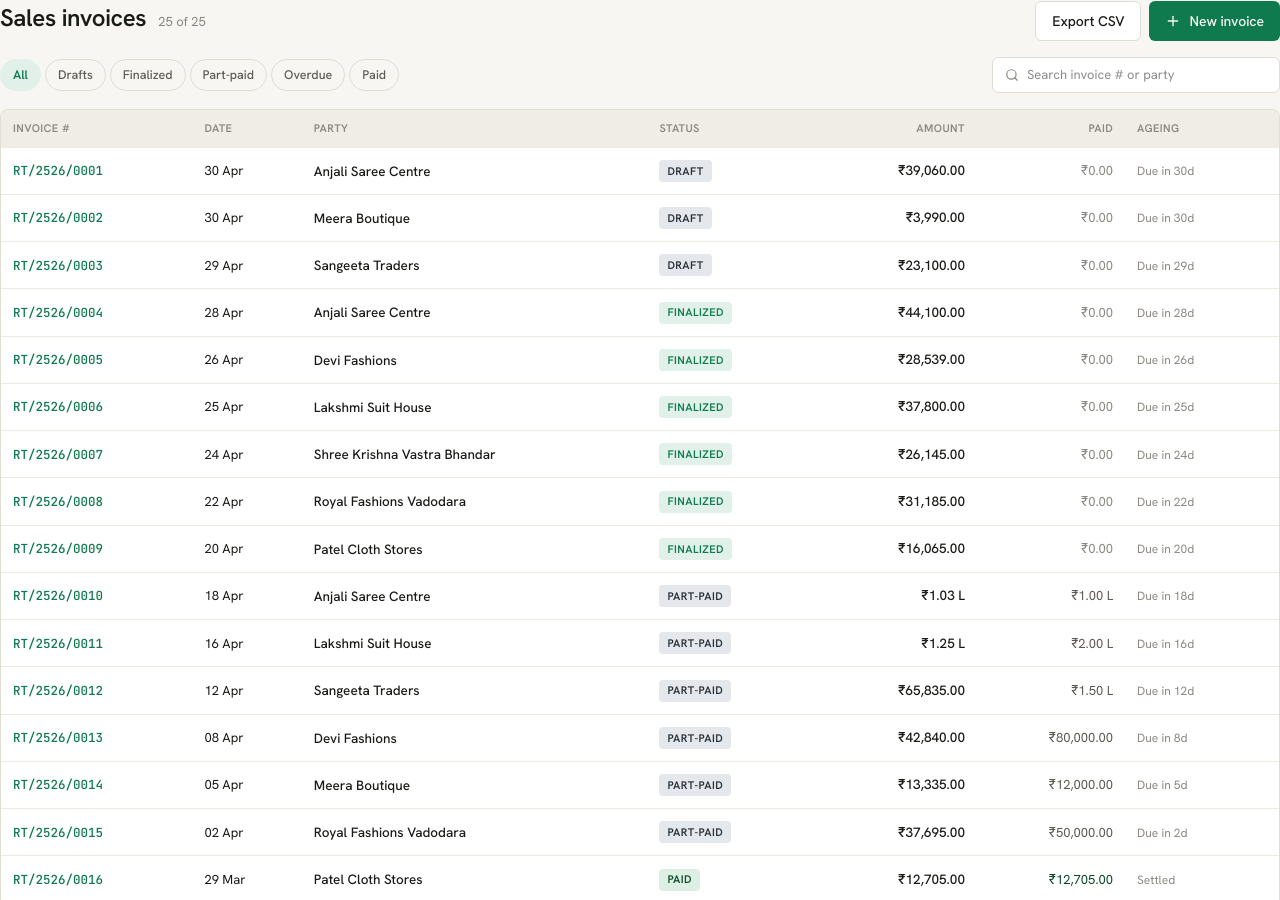
Test: InvoiceList › filters rows when the Drafts pill is selected
Expected: the link "RT/2526/0001" is shown, [13,162,103,179]
Click the button "Drafts" at (75, 75), box [45,59,106,91]
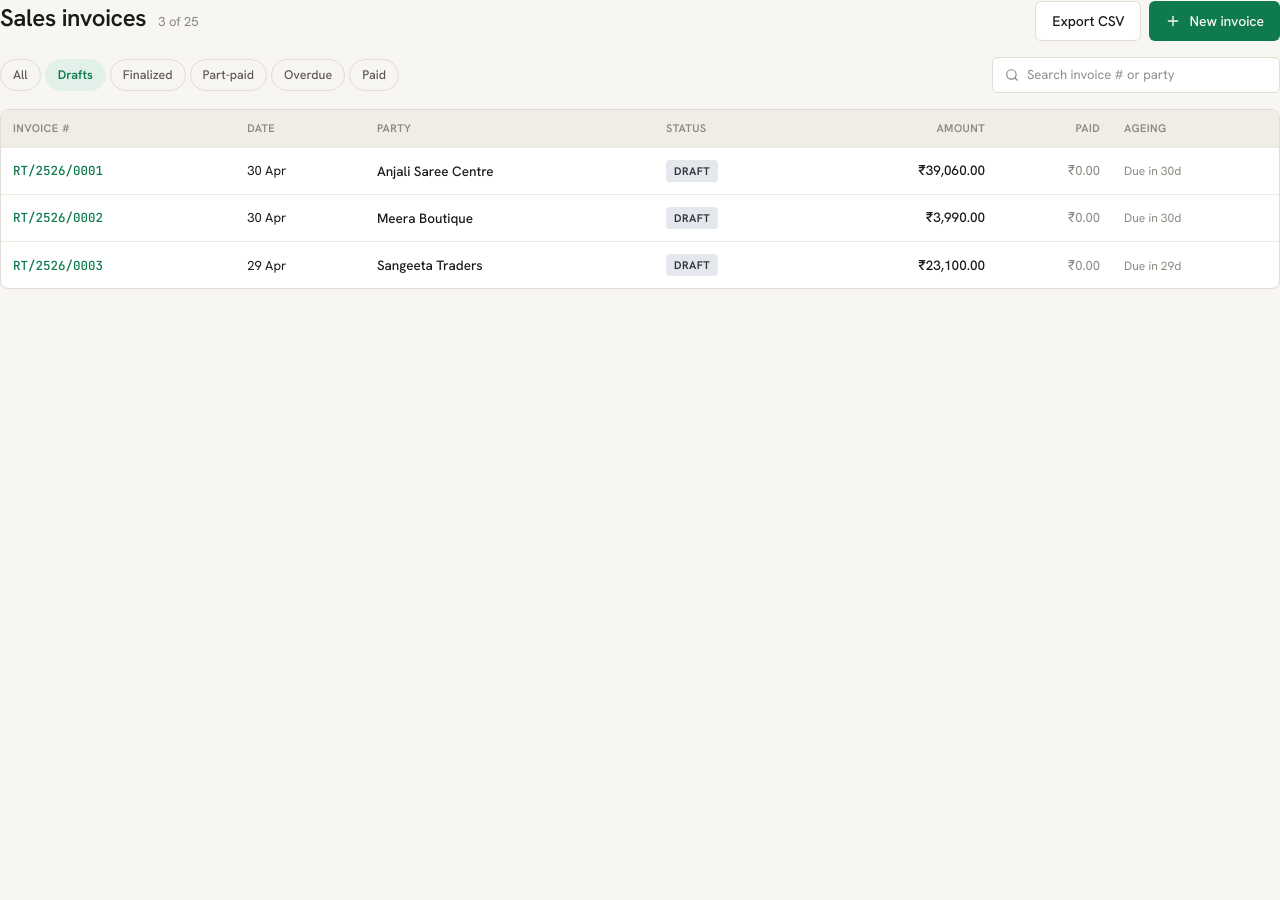
Expected: the link "RT/2526/0001" is shown, [13,162,103,179]
Expected: the link "RT/2526/0004" is gone
